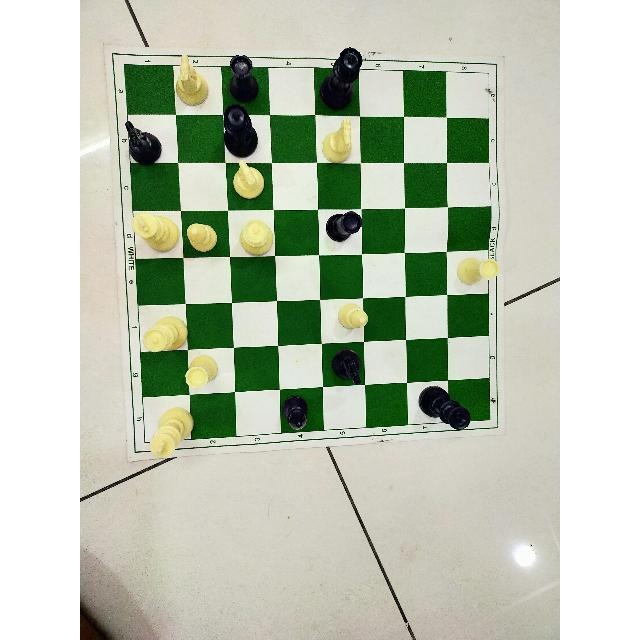black-bishop: (277, 393, 319, 435)
black-king: (415, 384, 484, 430)
black-knight: (119, 116, 169, 170), (322, 348, 365, 390)
black-queen: (319, 42, 363, 111), (215, 102, 258, 158)
black-rook: (221, 51, 263, 101), (321, 206, 363, 250)
white-bishop: (332, 299, 375, 338), (188, 216, 222, 259)
white-king: (145, 404, 197, 461), (133, 209, 181, 252)
white-knight: (169, 51, 211, 110), (226, 156, 265, 201), (318, 123, 357, 165)
white-queen: (138, 311, 194, 351), (238, 212, 277, 262)
white-rook: (454, 245, 500, 294), (185, 351, 223, 393)
